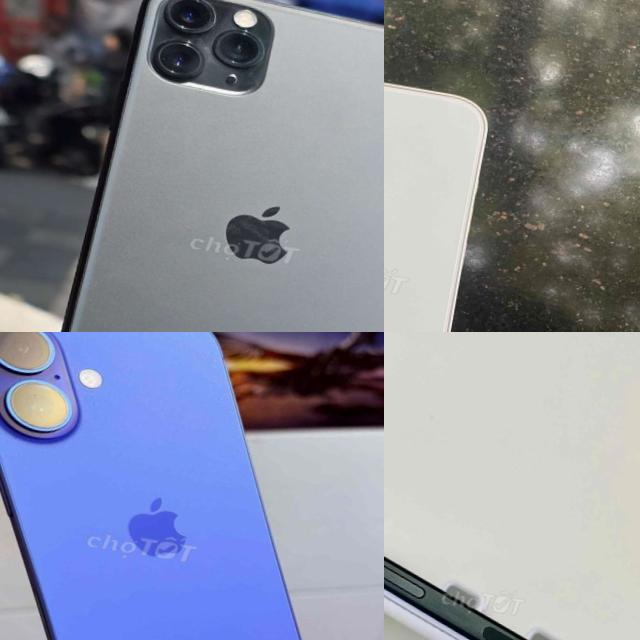gen_11: (36, 0, 384, 332)
gen_12_13: (384, 53, 502, 332)
gen_15: (384, 447, 640, 640)
gen_16: (0, 332, 301, 640)
